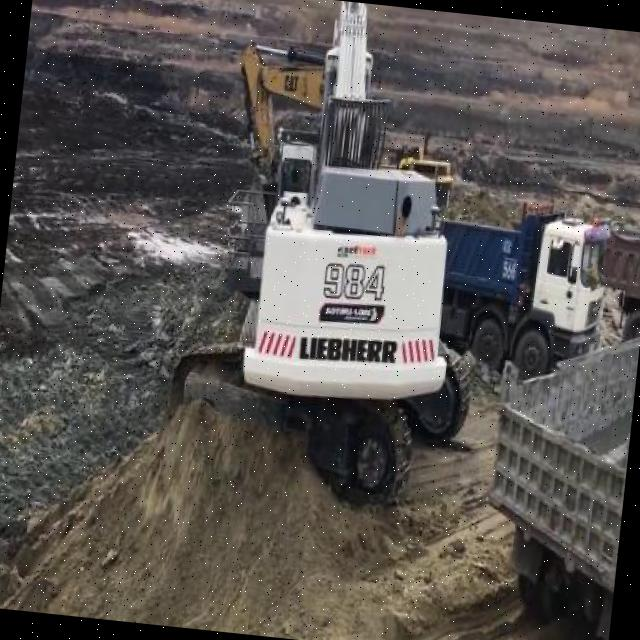Dump Truck: (471, 331, 639, 640), (434, 203, 610, 376), (591, 224, 640, 334)
Excavator: (159, 0, 509, 510)
